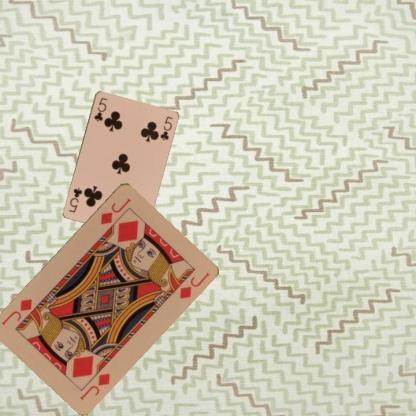5c: (91, 95, 109, 122)
Jd: (98, 195, 132, 226), (77, 370, 111, 401)
